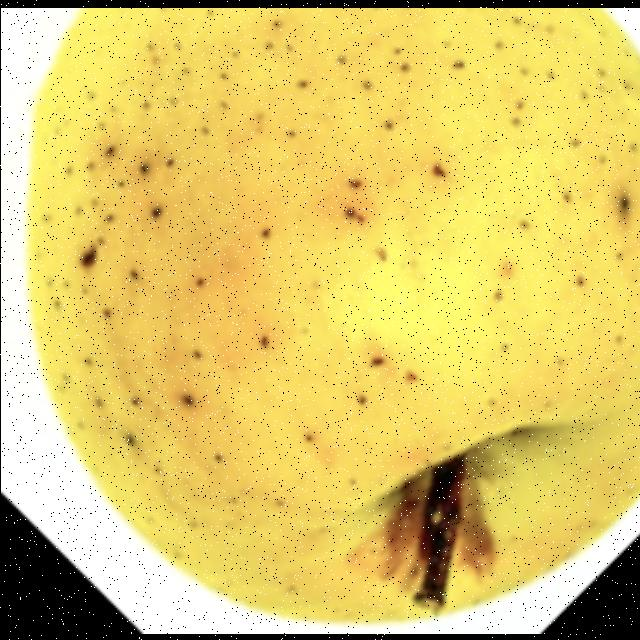Apel Tidak Segar: (0, 7, 640, 600)
